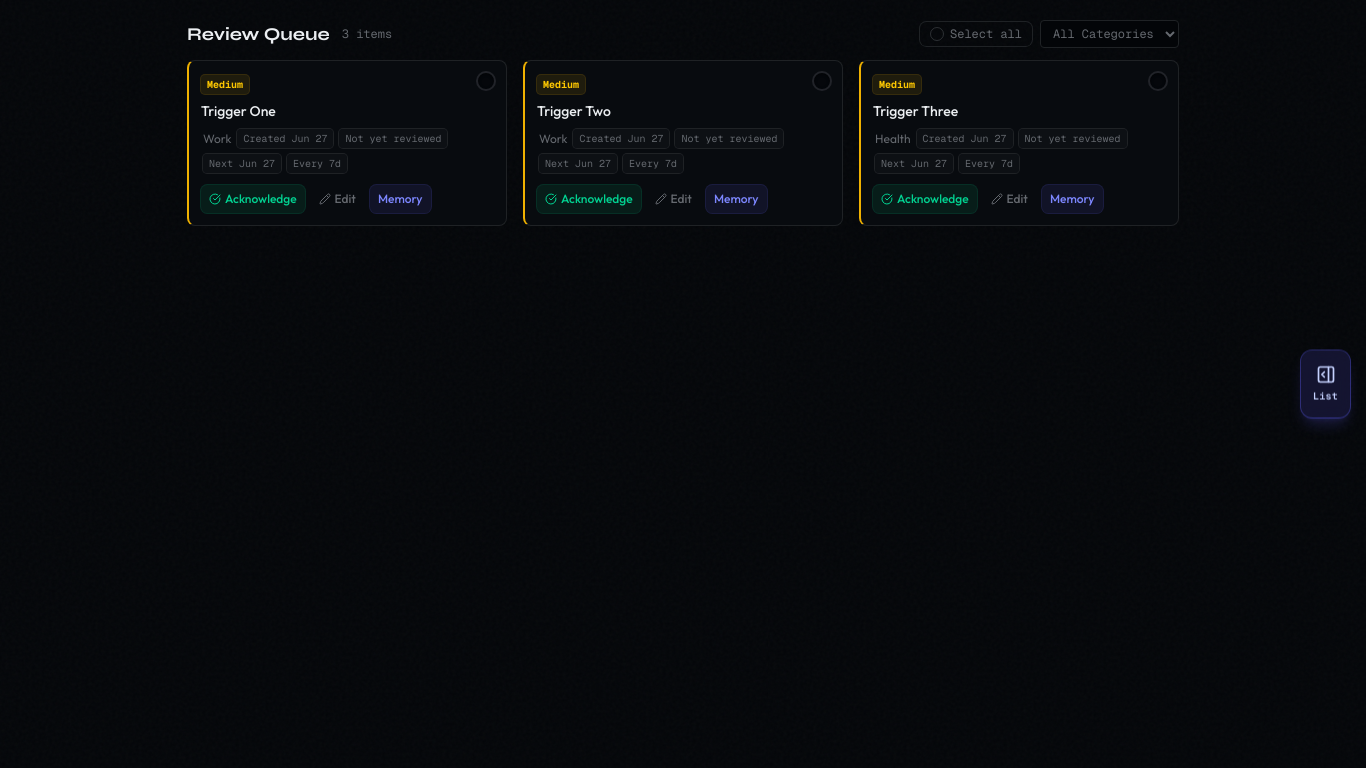
Scenario: ReviewQueueClient › Select all flips to Deselect all and clears the selection
Click the button "Select all".
click(976, 34)  # box [920, 22, 1032, 46]
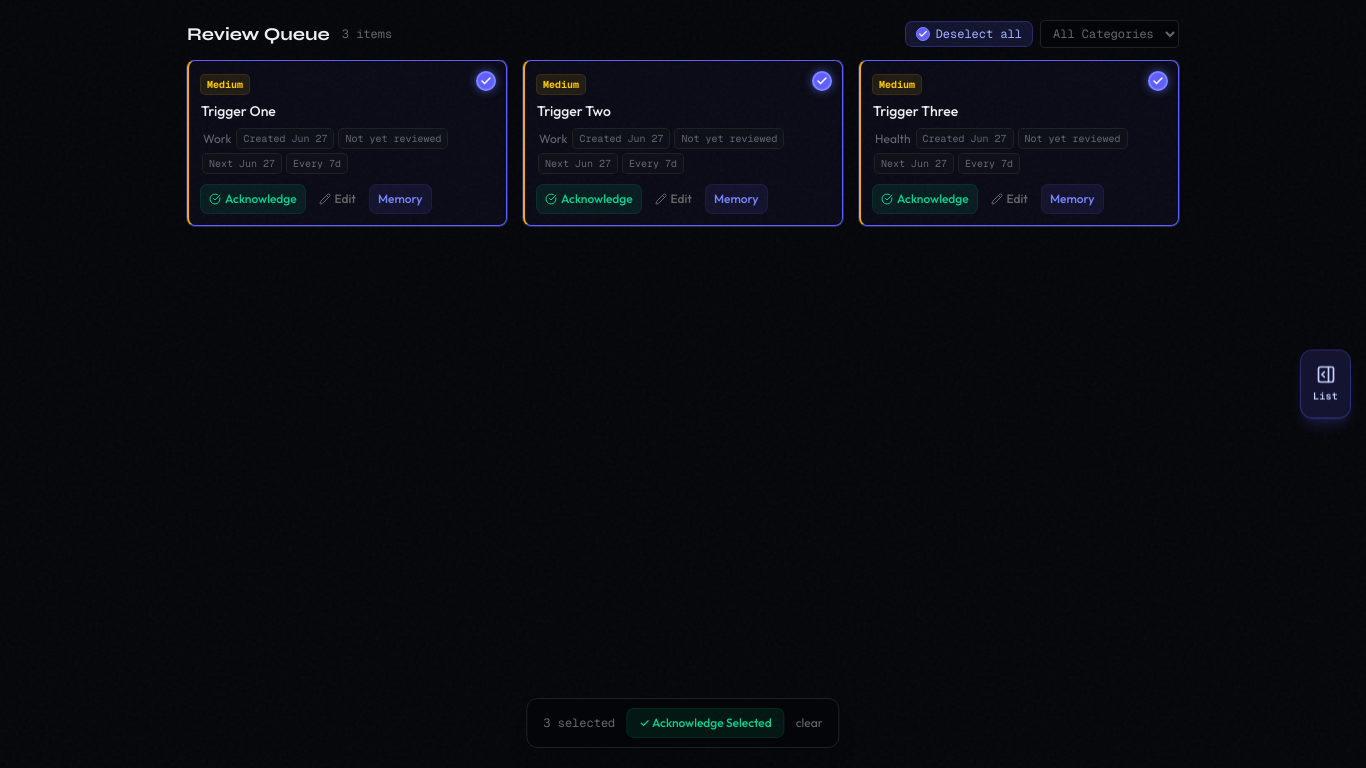
Click the button "Deselect all".
click(969, 34)  # box [906, 22, 1032, 46]
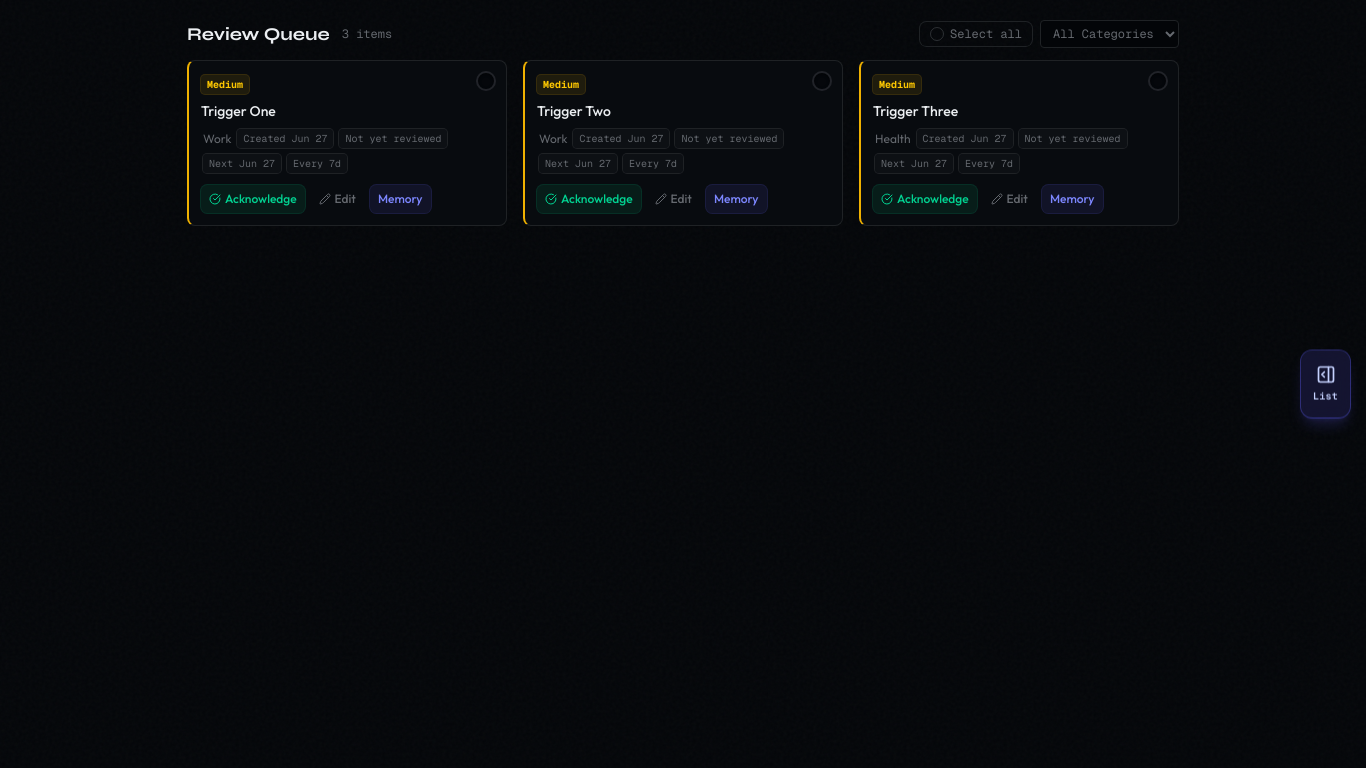
Check: the text "selected" is gone
